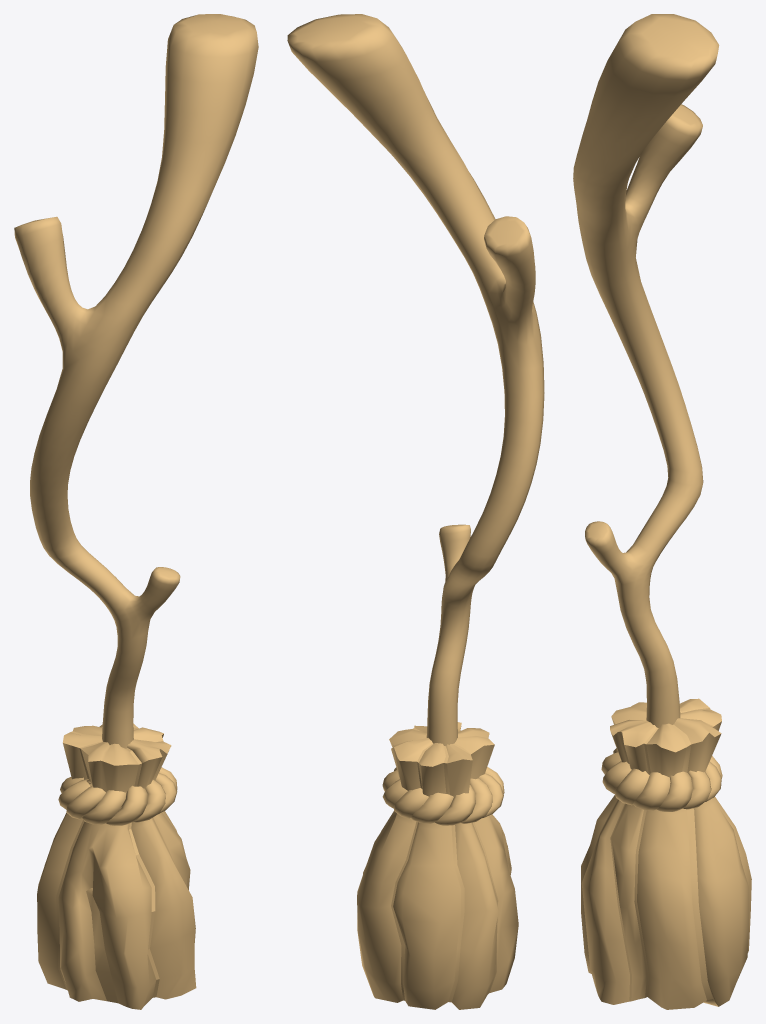
Rendered from BroomStick.fbx.
3 renders of one model, left to right at view 1: azimuth 30°, elevation 25°; view 2: azimuth 150°, elevation 25°; view 3: azimuth 270°, elevation 25°, orthographic. The views are drawn at different scales.
Visible parts, largest first — view 1: rope; view 2: rope; view 3: rope.
Part boxes in pixels (x1,y1,x2,y2): rope: (14,14,258,1009); rope: (287,14,544,1009); rope: (573,14,751,1009).
Size of the model in its own units: 662 by 2527 by 407.
